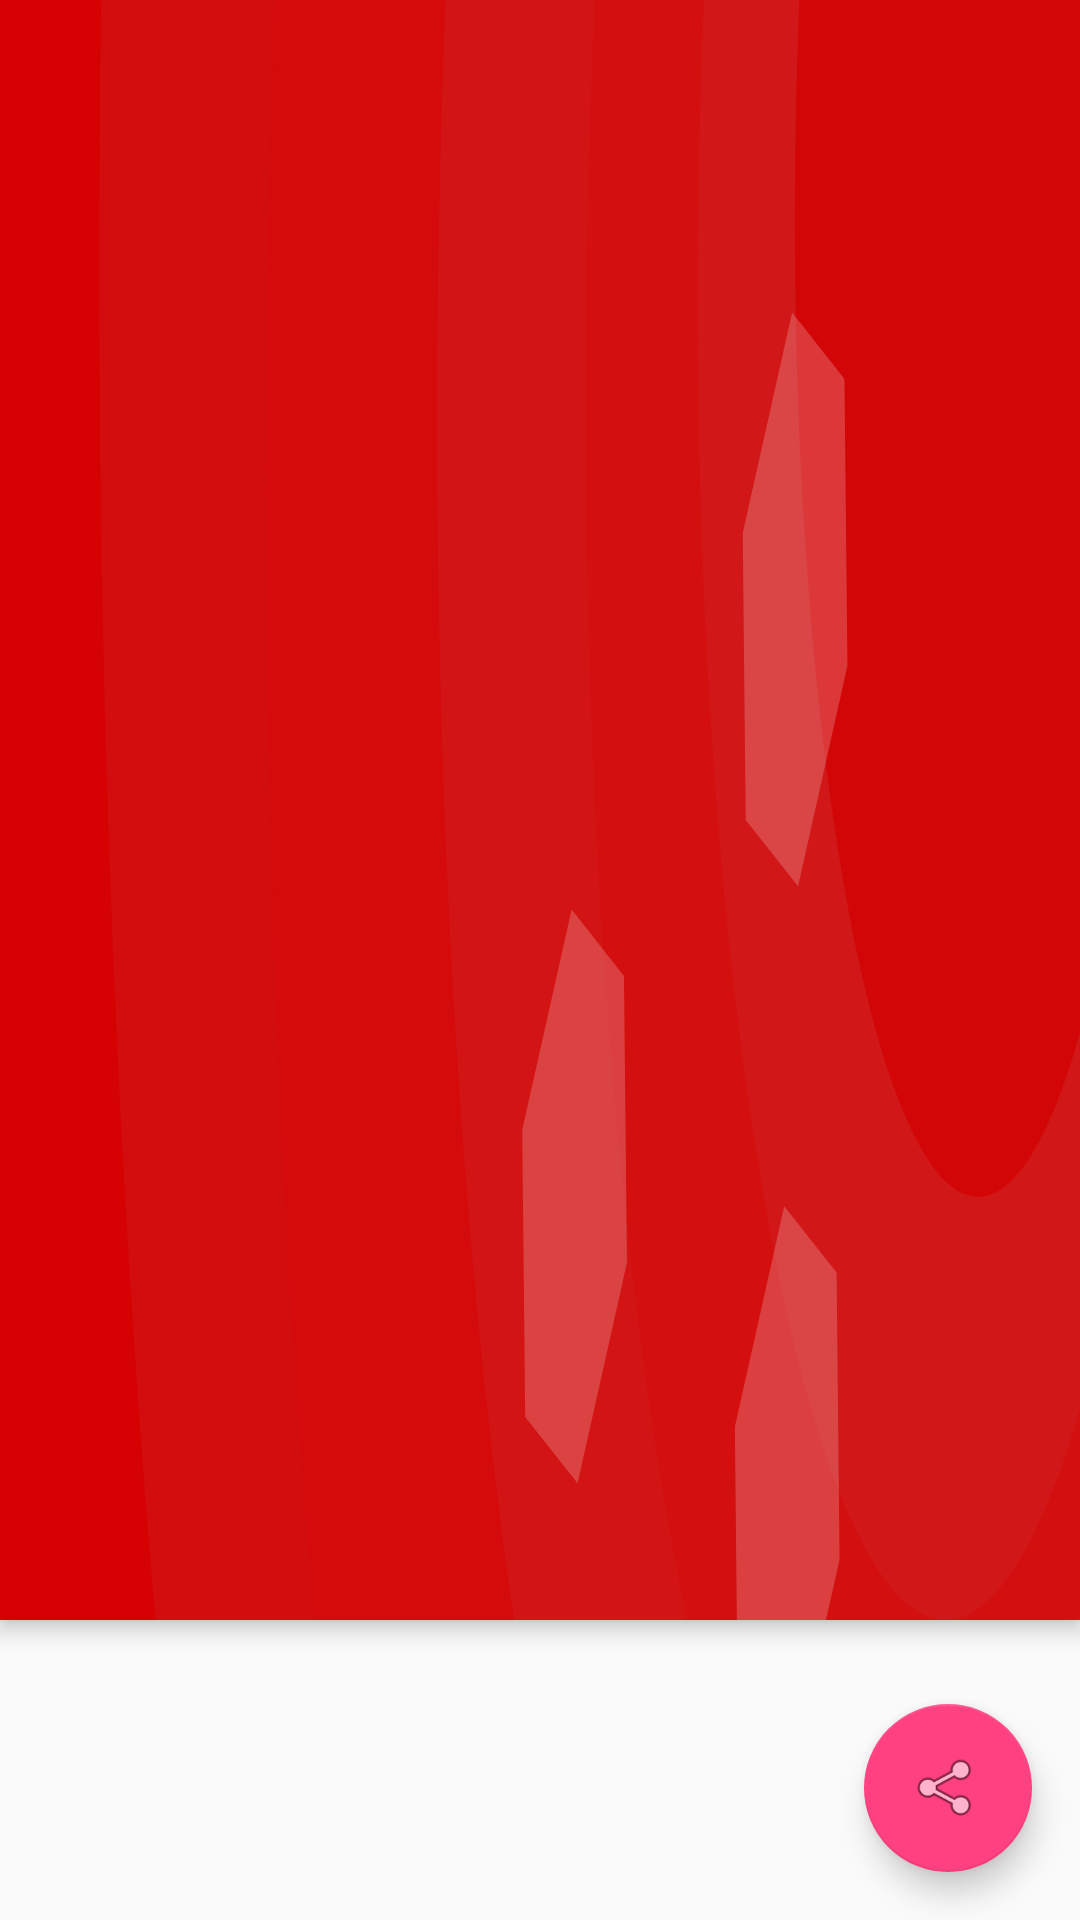

Point at icon controls on the screen. Image size 1080px x 1920px, points as (x=x, y=y).
share: (x=948, y=1788)
